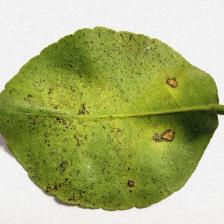canker: (32, 41, 176, 221)
